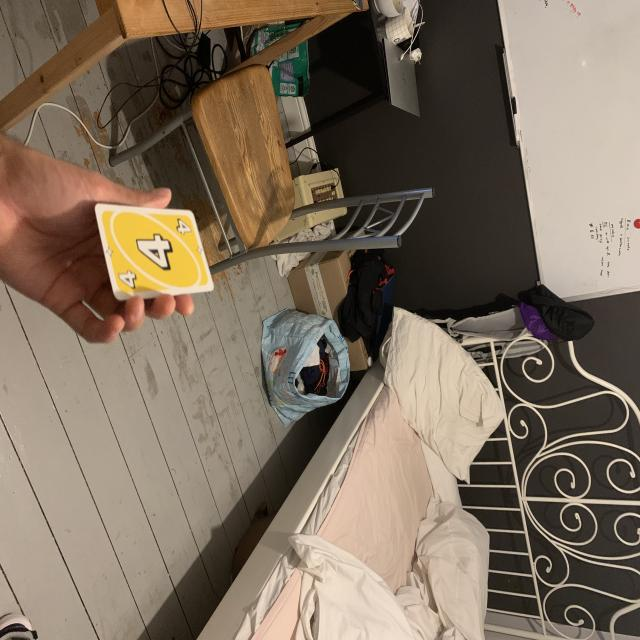lyellow-4: (172, 216, 195, 239)
